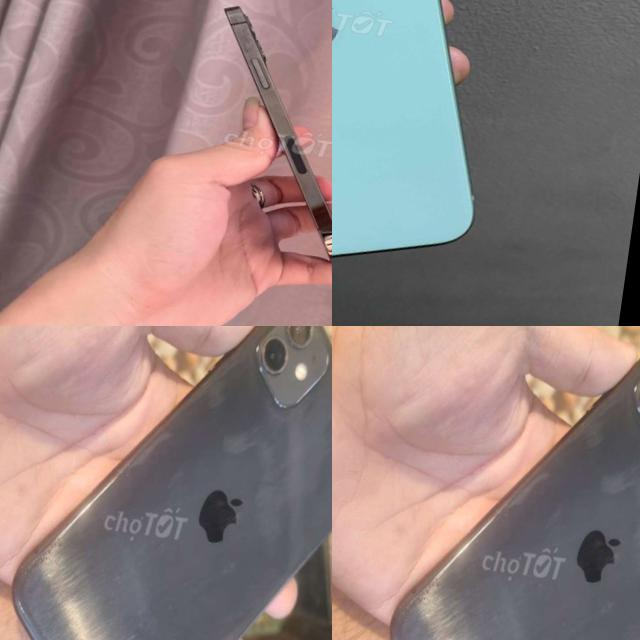gen_11: (13, 326, 332, 640), (391, 360, 640, 640), (332, 0, 472, 256)
gen_12_13: (189, 0, 332, 264)
scratch: (272, 392, 300, 413), (252, 335, 266, 357), (630, 375, 640, 397), (255, 361, 267, 375), (633, 401, 640, 415)
